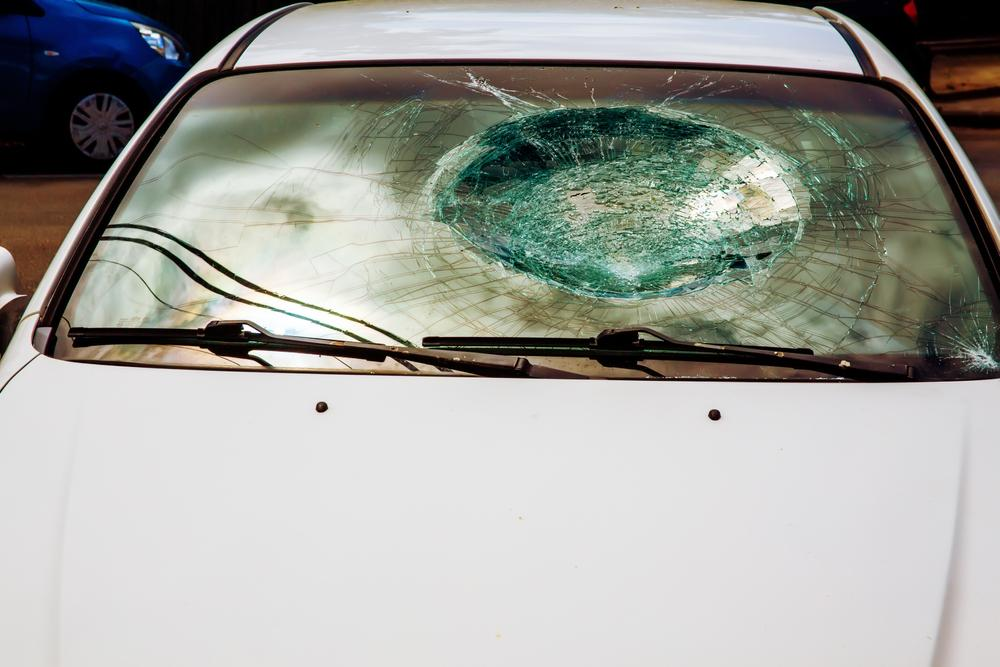glass shatter: (55, 66, 1000, 380)
